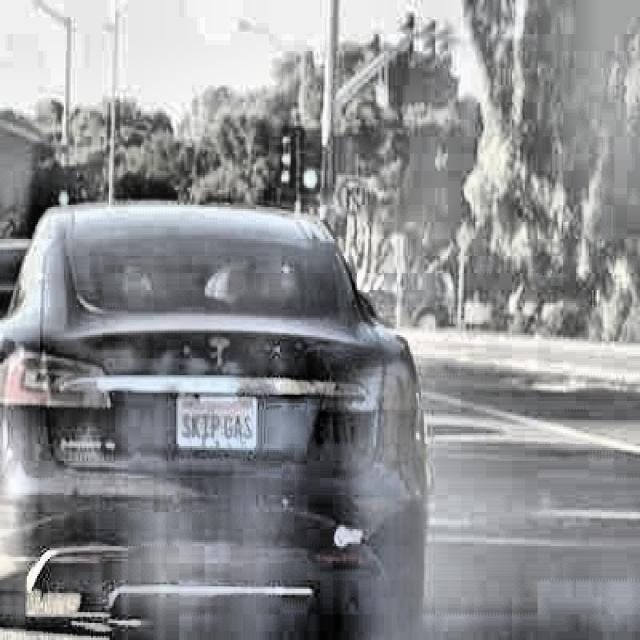license_plate: (177, 394, 260, 448)
